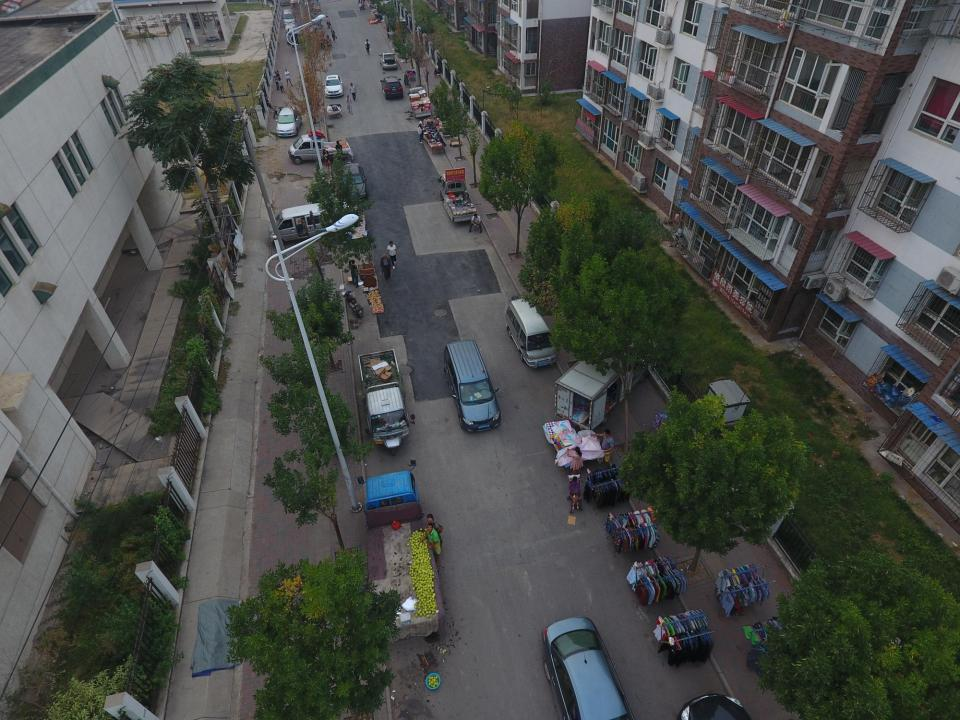car: (542, 617, 633, 719), (287, 134, 350, 165), (339, 163, 368, 202), (275, 107, 302, 137), (380, 76, 404, 99), (322, 75, 344, 96), (379, 52, 398, 70)
truck: (358, 458, 438, 629), (554, 339, 649, 429), (358, 349, 415, 450), (436, 173, 478, 224), (407, 86, 432, 118)
van: (443, 339, 501, 433), (267, 201, 350, 247), (505, 298, 556, 368), (282, 9, 296, 27), (284, 23, 296, 42)
